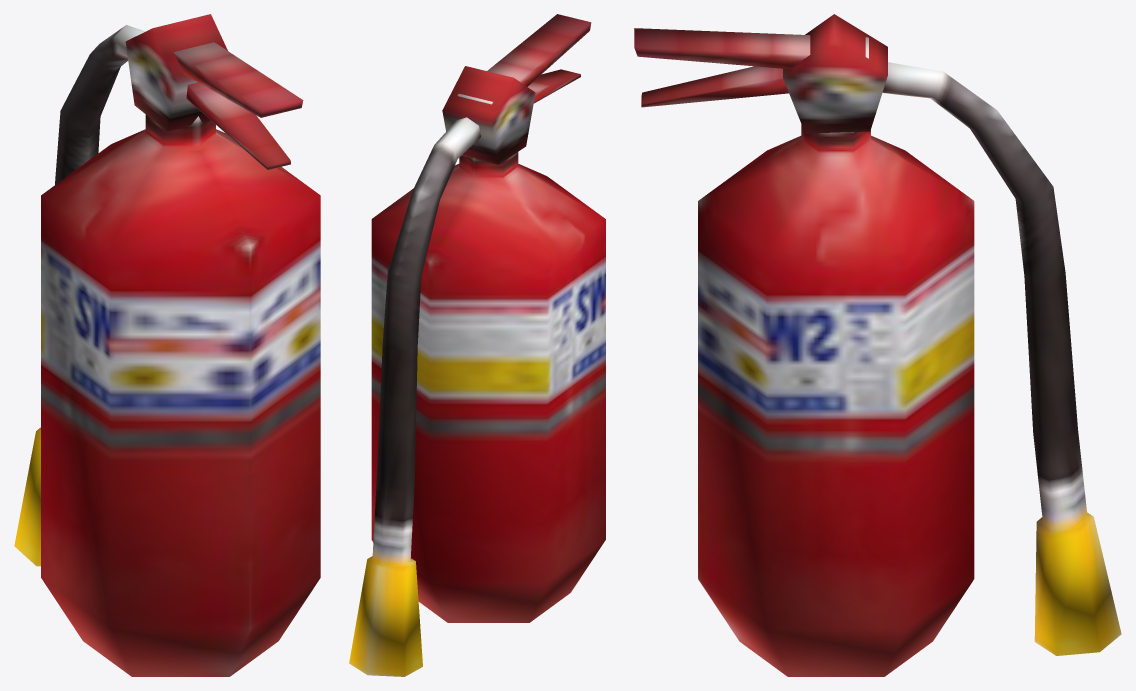
Rendered from FIreEx.glb.
3 renders of one model, left to right at view 1: azimuth 30°, elevation 25°; view 2: azimuth 150°, elevation 25°; view 3: azimuth 270°, elevation 25°, orthographic. The views are drawn at different scales.
Parts seen in each view (by area): view 1: Cylinder; view 2: Cylinder; view 3: Cylinder.
Part boxes in pixels (x1,y1,x2,y2): Cylinder: (14,14,320,676); Cylinder: (349,14,605,676); Cylinder: (634,14,1121,676).
Size of the model in its own units: 1.73 by 4.9 by 3.53.
Materials: 1 (1 with a texture image).
